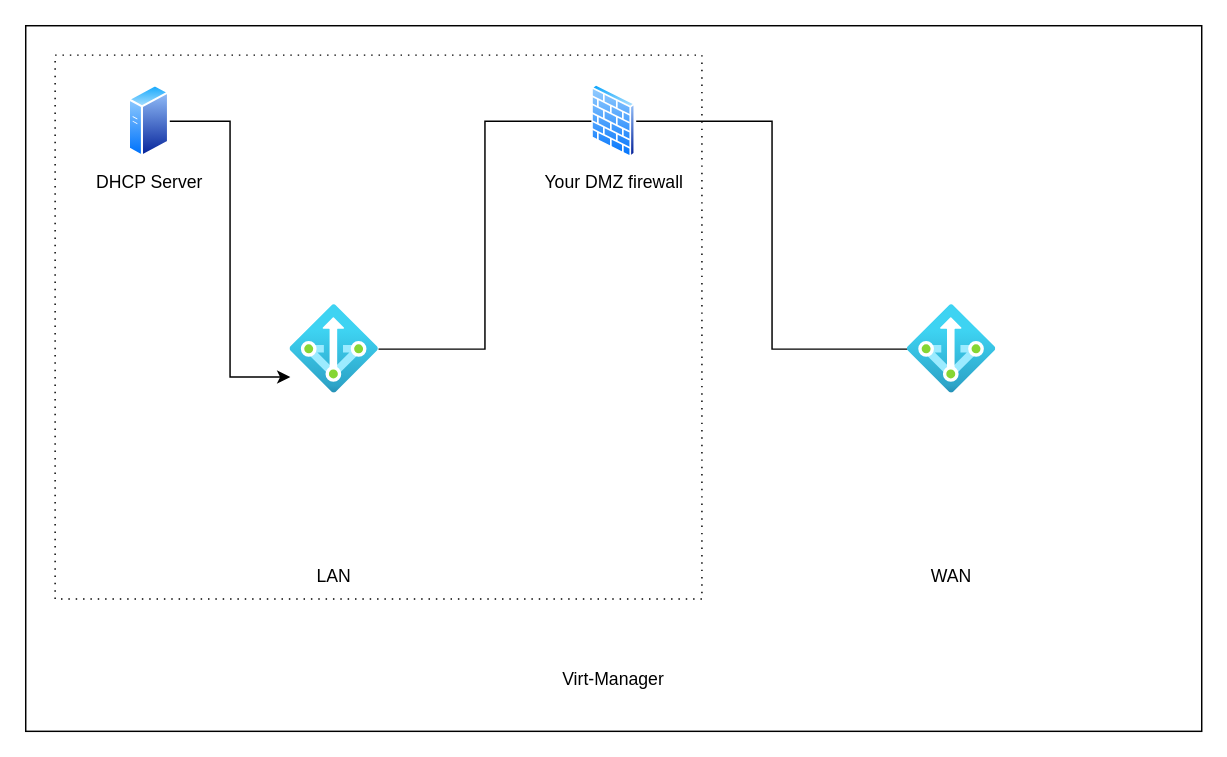
The diagram is 1227 pixels wide and 757 high, and some of its shapes have lost their labels. The centre of each missing label's shape, as x and y in pixels:
Default virtual network on virt-manager: the point at 951,348
Isolated Virtual Network: the point at 334,348
